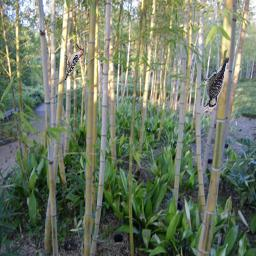Woodpecker: (202, 56, 231, 111), (65, 43, 84, 81)
